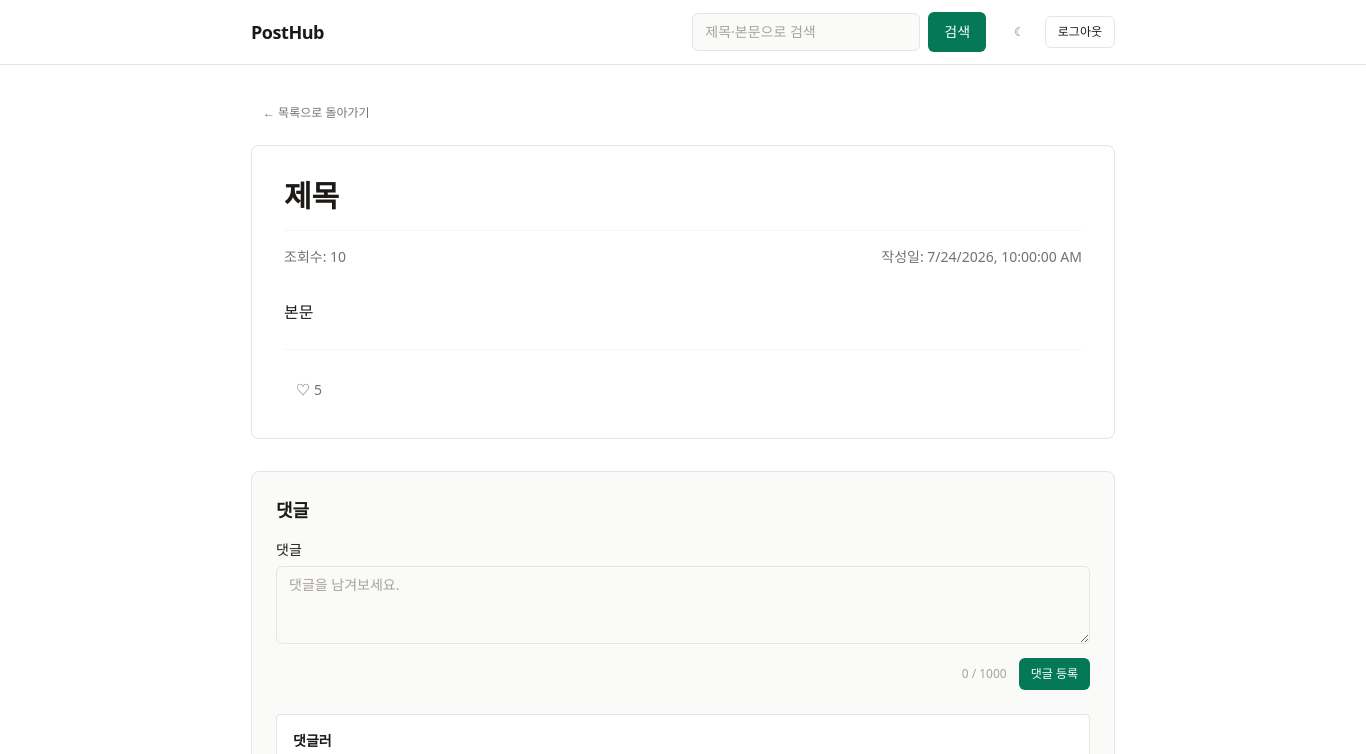
Test: PostDetailPage 삭제 확인과 댓글 검증 › 댓글을 등록하면 인라인 오류가 사라진다
This screenshot has width=1366, height=754.
Click the button "댓글 등록" at (1054, 674), box [1019, 658, 1090, 690]
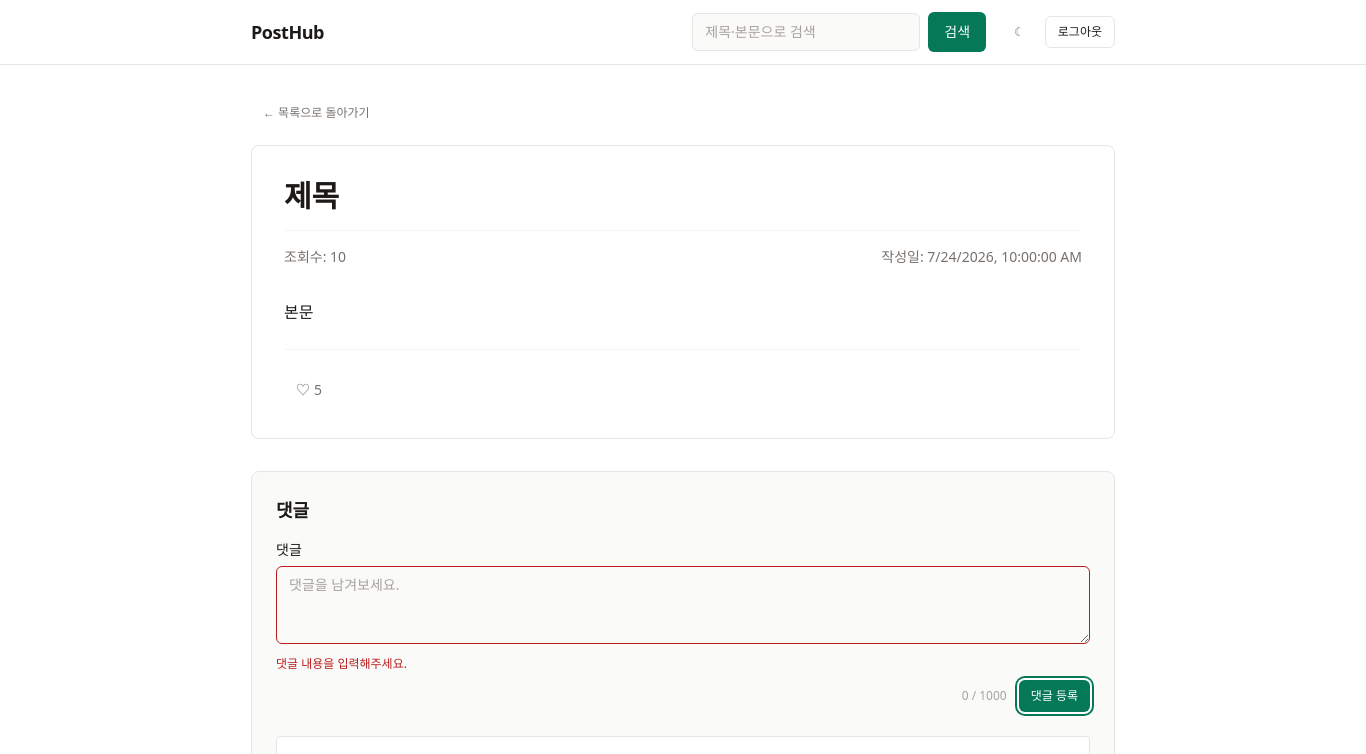
Expected: the message "댓글 내용을 입력해주세요." is shown, [276, 655, 407, 672]
Type "새 댓글" into the text box labelled "댓글" at (683, 605), box [276, 566, 1090, 644]
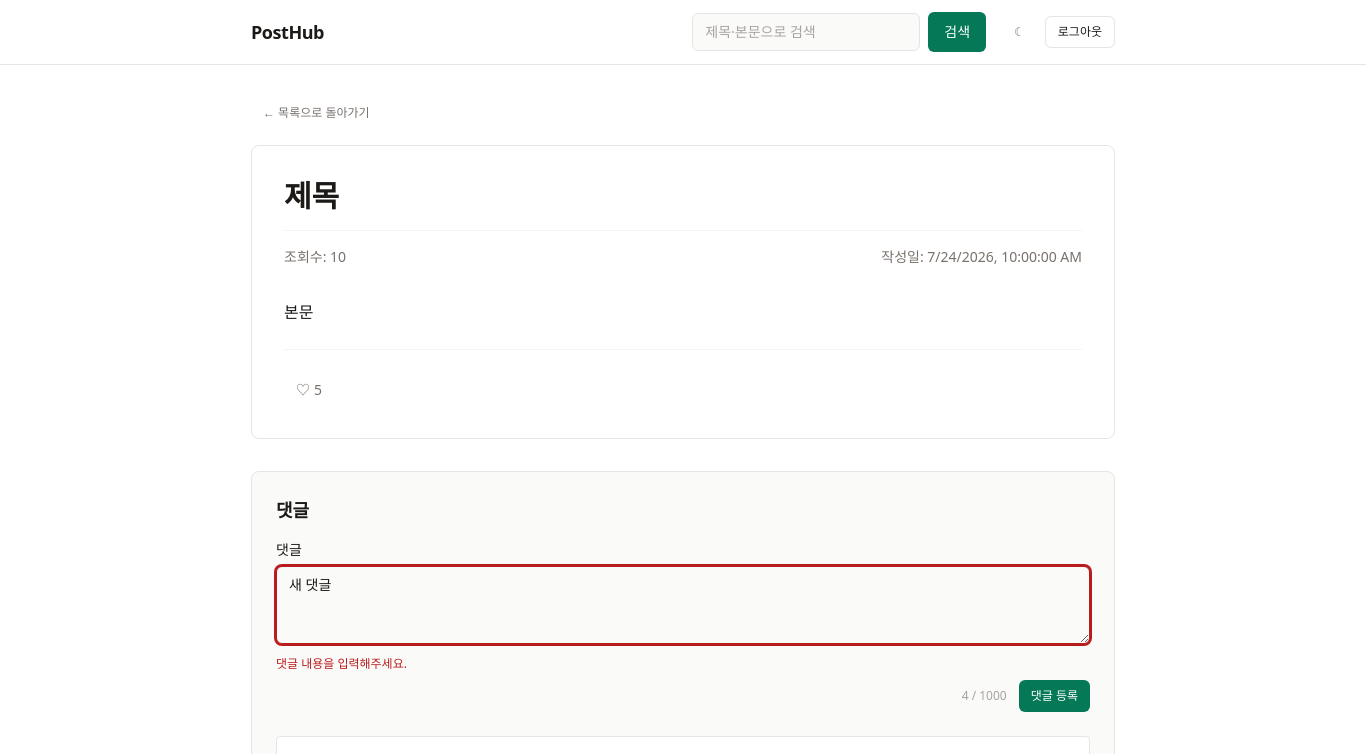
Click the button "댓글 등록" at (1054, 696), box [1019, 680, 1090, 712]
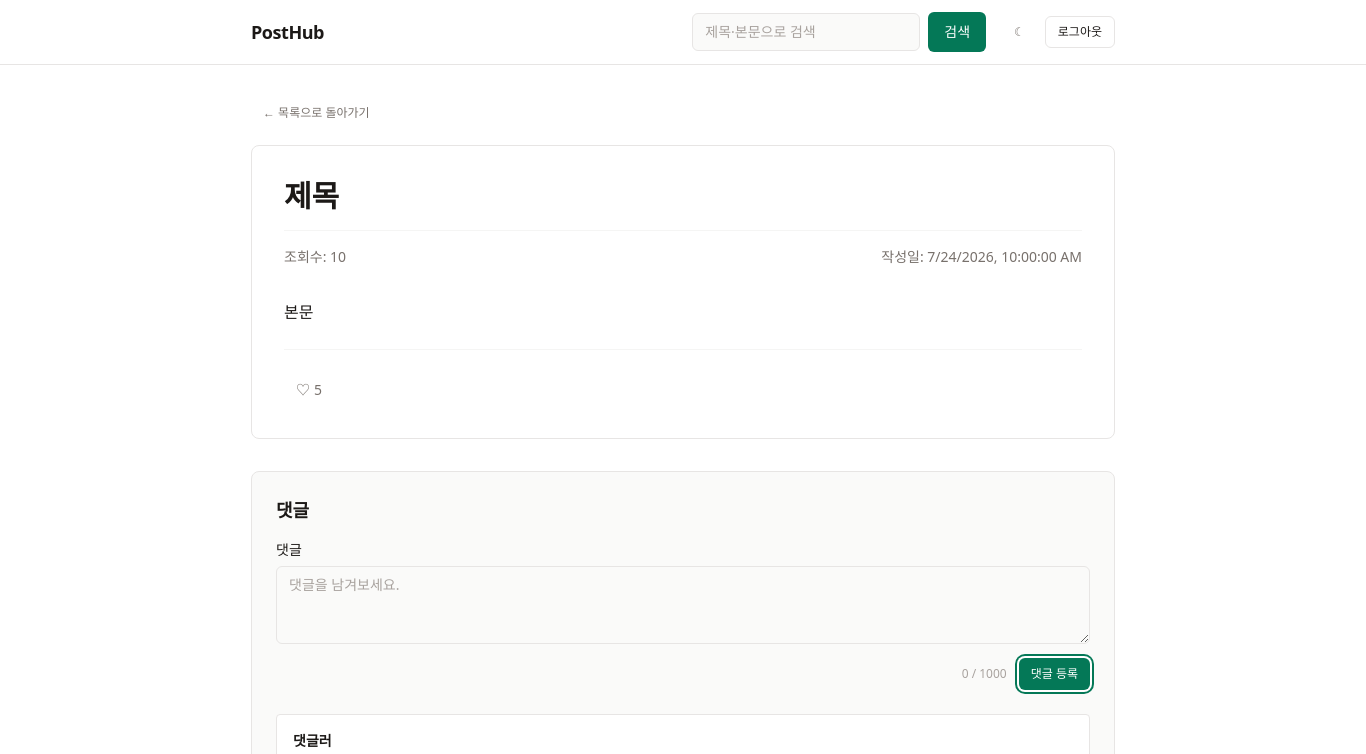
Expected: the message "댓글 내용을 입력해주세요." is gone
